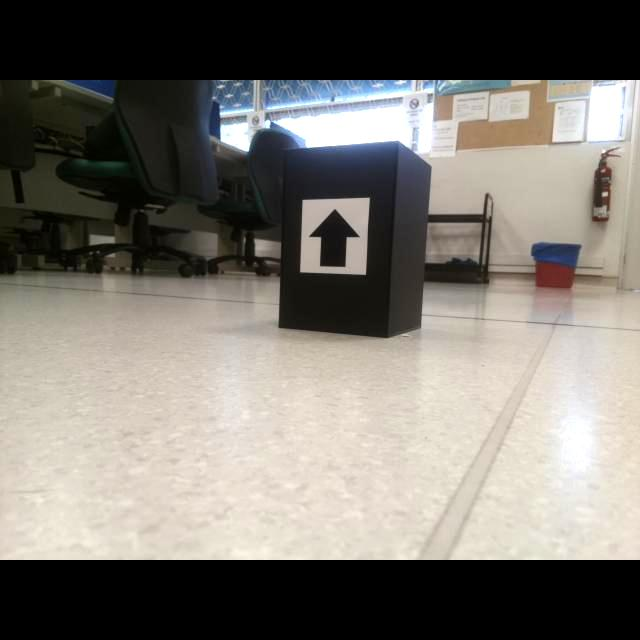UP: (308, 208, 362, 268)
